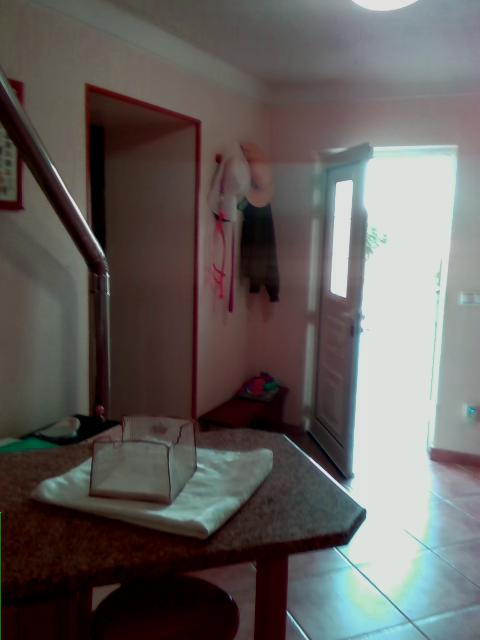semi_door: (304, 141, 459, 484)
